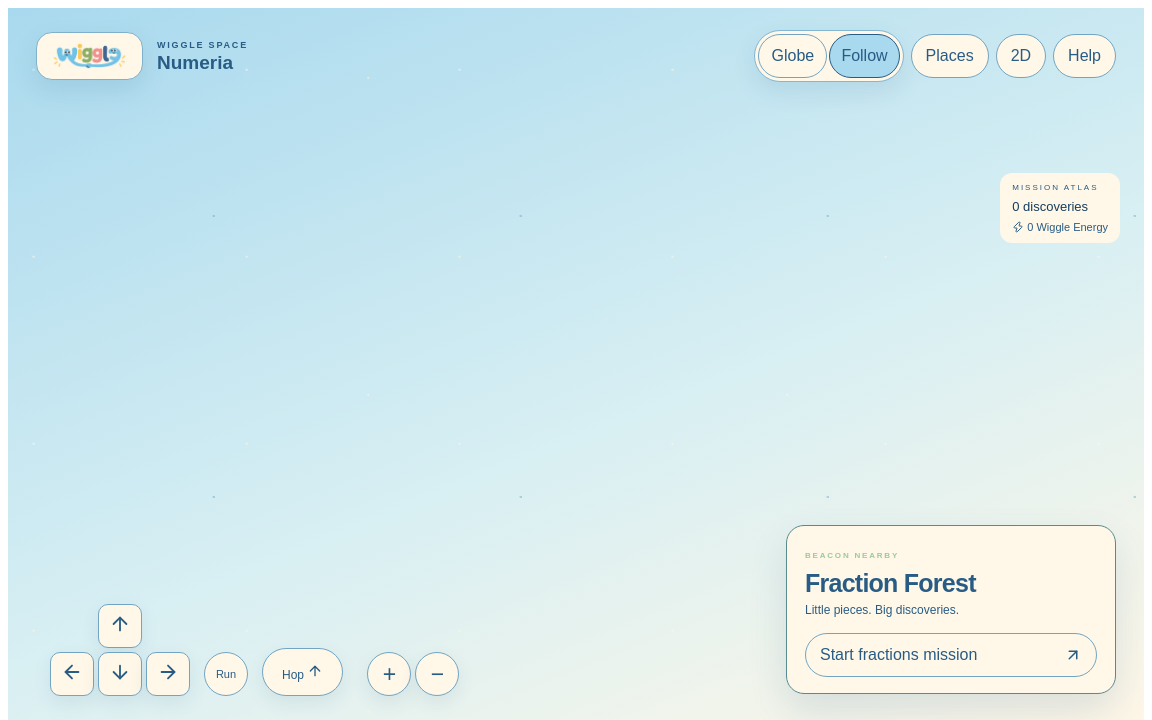
Scenario: records actual selected input for buttons completion
Click the button "Start fractions mission" at (951, 655), box [805,633,1097,677]
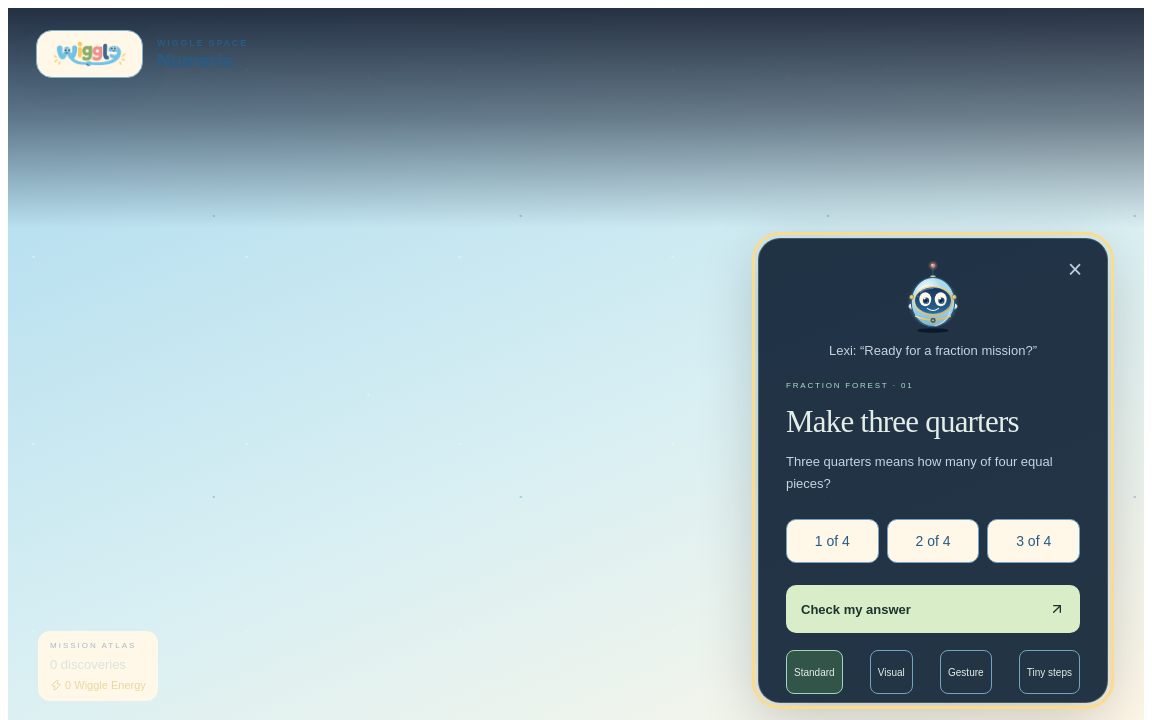
Now the heading "Make three quarters" is shown, box [786,405,1051,439]
Click the button "Gesture" at (966, 672), box [940,650,992,694]
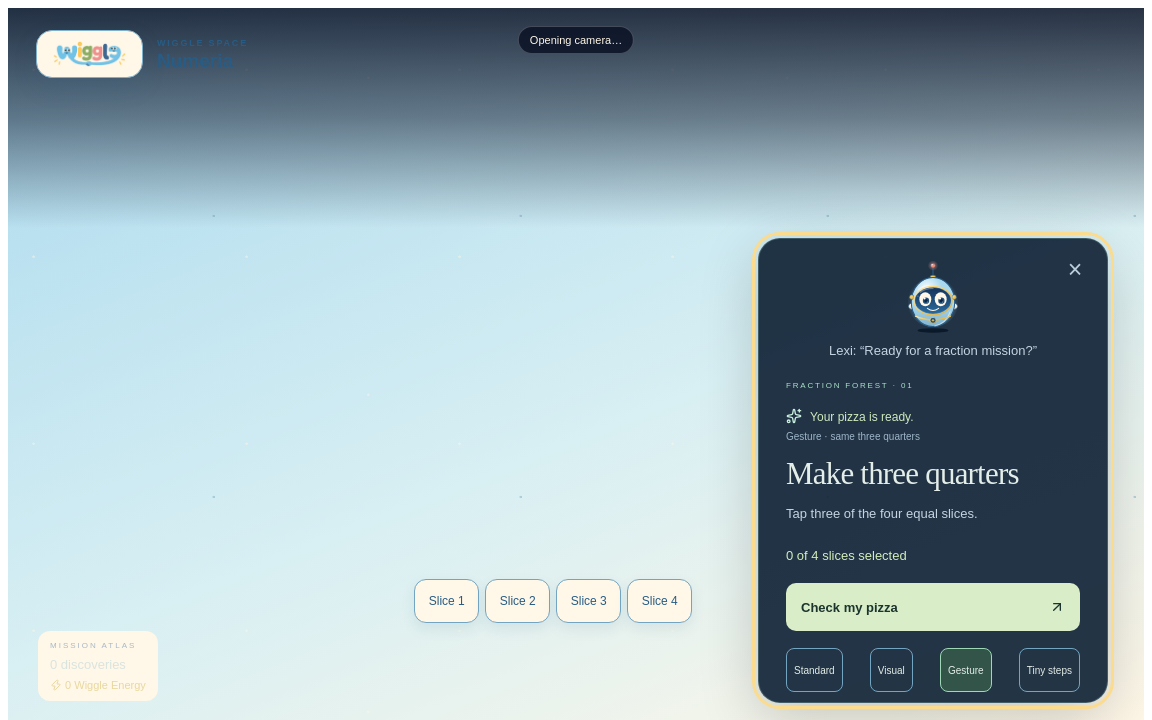
Click the button "Slice 1" at (447, 601), box [414,579,479,623]
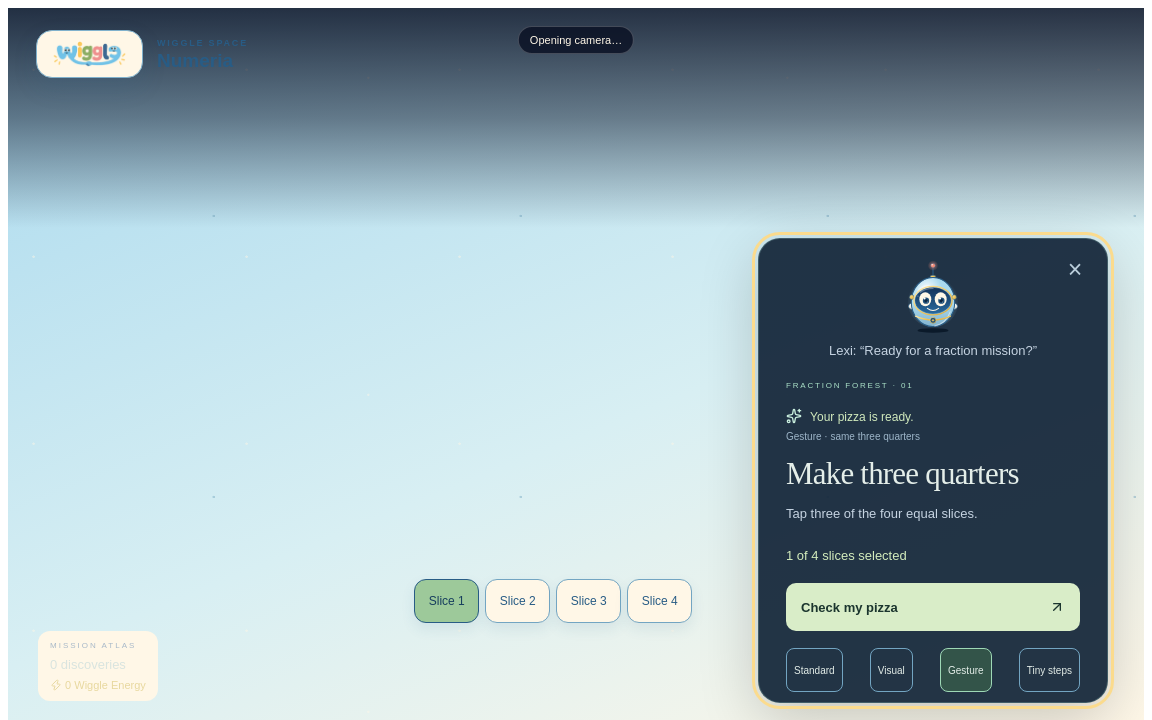
Click the button "Slice 2" at (518, 601), box [485,579,550,623]
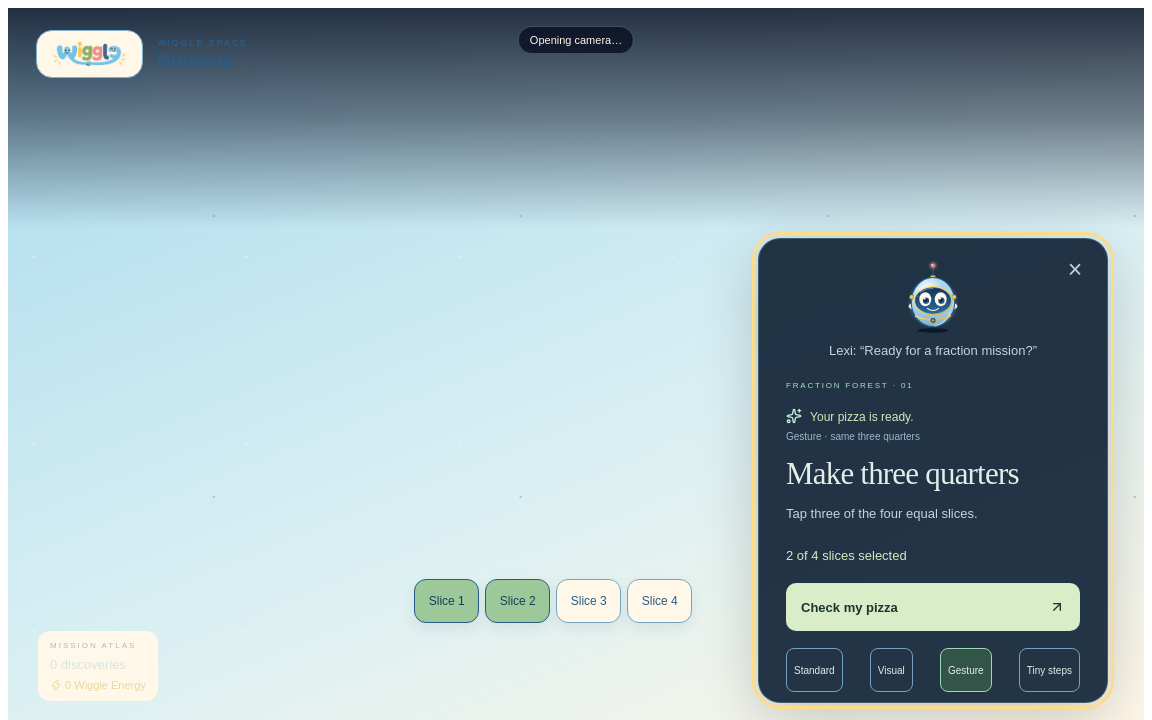
Click the button "Slice 3" at (589, 601), box [556,579,621,623]
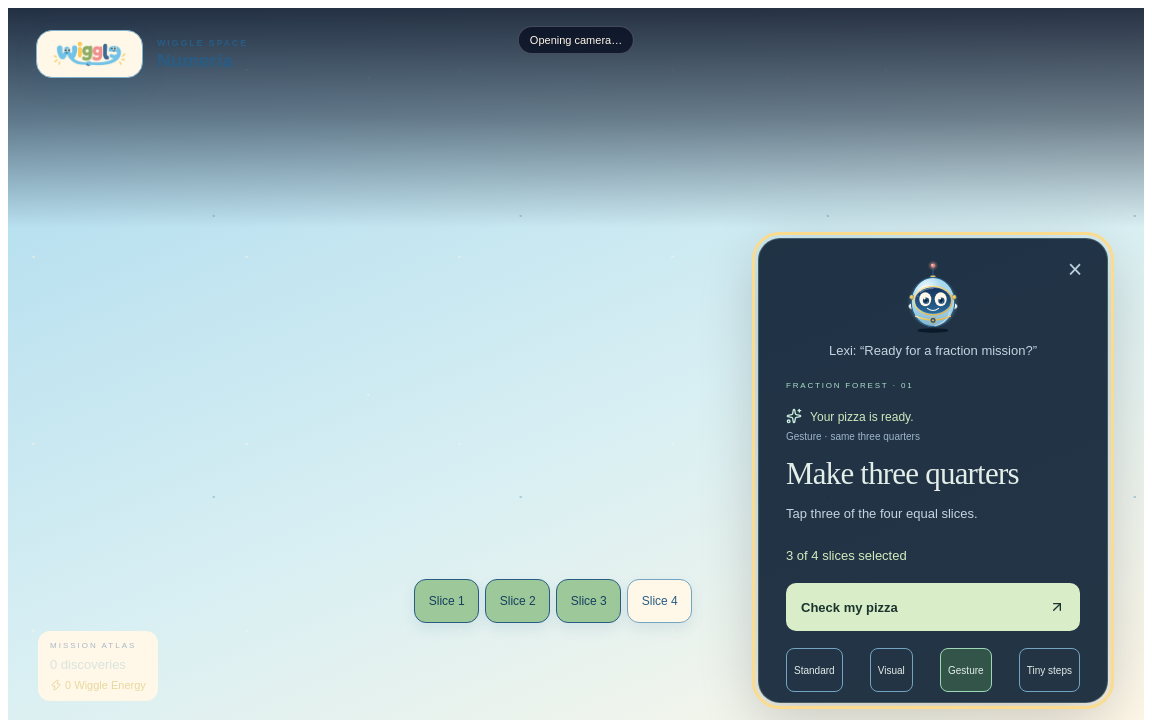
Click the button "Check my pizza" at (849, 607), box [786,583,1080,631]
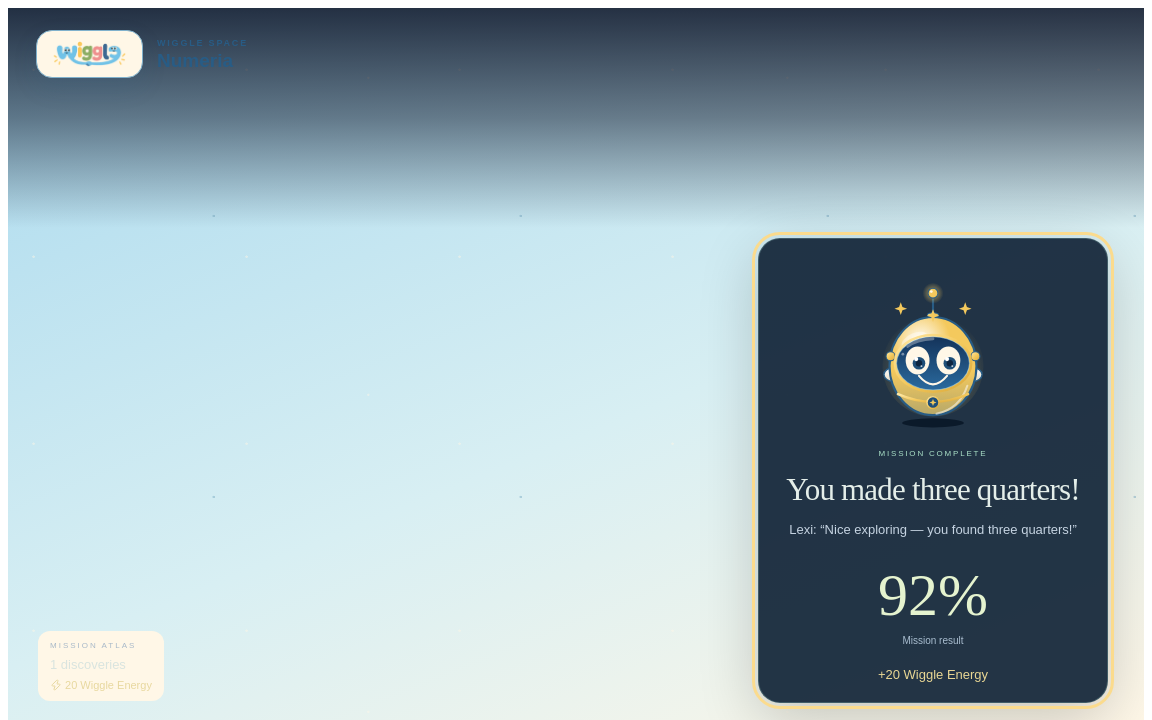
Now the text "+20 Wiggle Energy" is shown, box [878,667,988,682]
